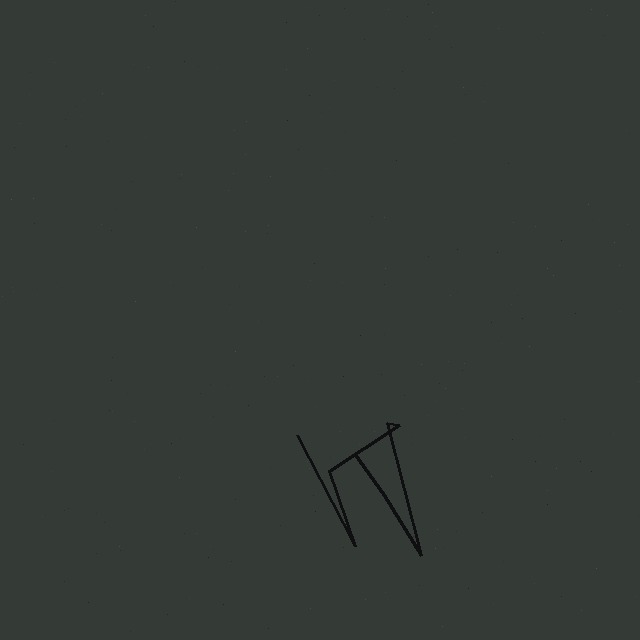crocodile_crack: (290, 412, 423, 566)
